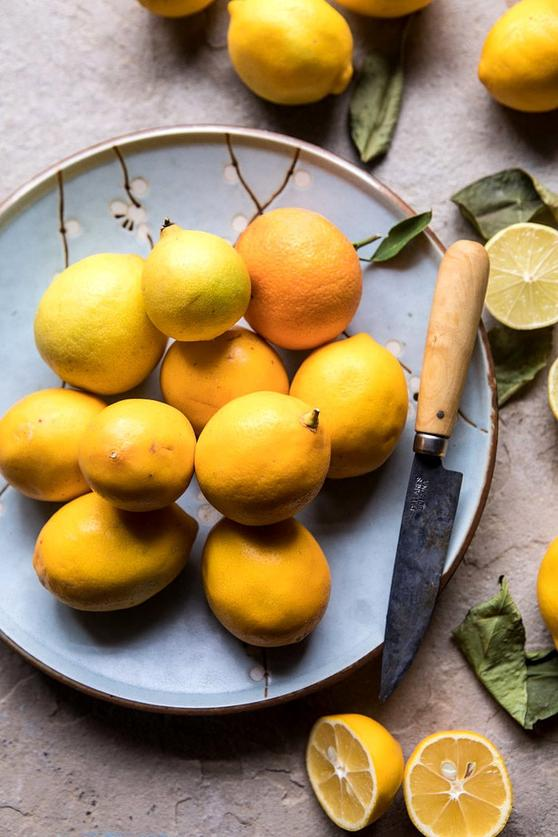lemon: (197, 395, 336, 518), (139, 220, 247, 342), (78, 407, 194, 502)
